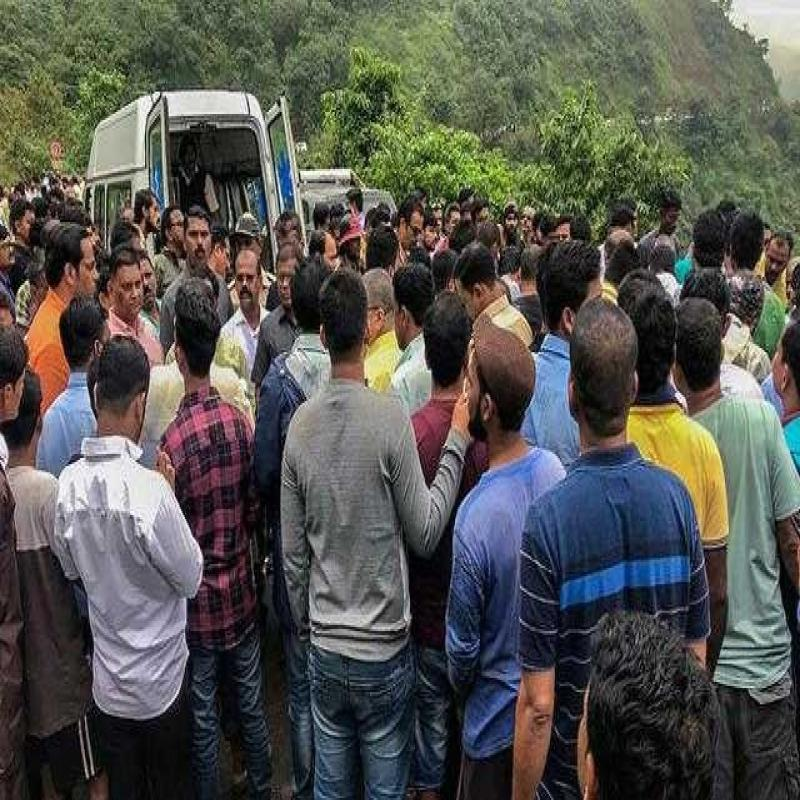bus: (98, 73, 306, 265)
